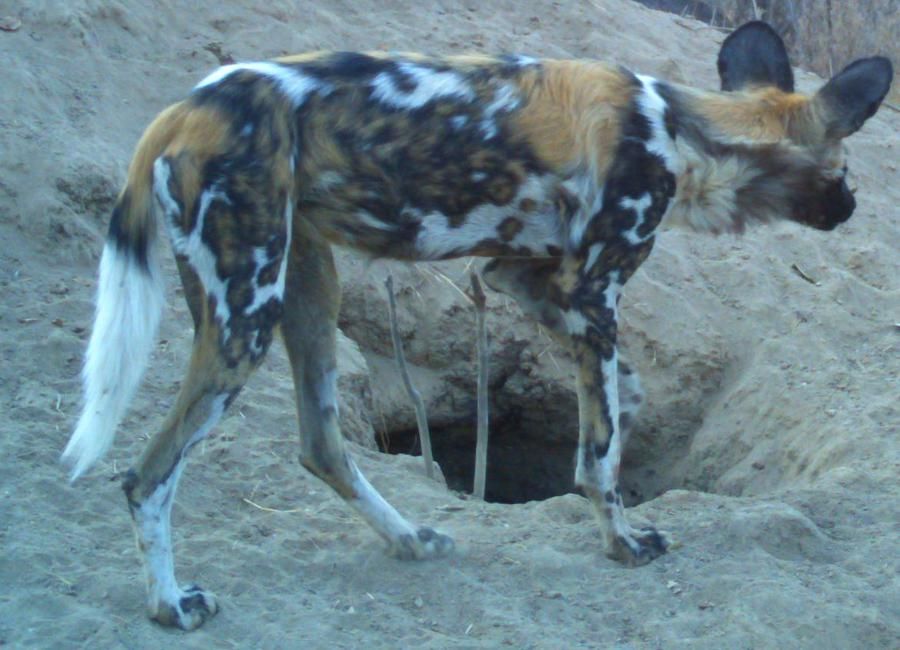wilddog: (153, 28, 852, 421)
